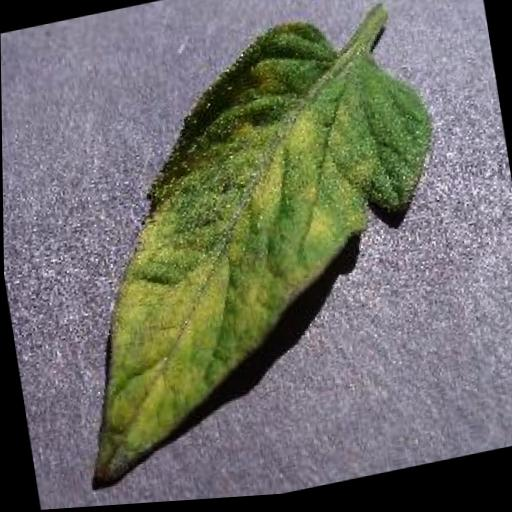Leaf Mold: (34, 3, 474, 493)
